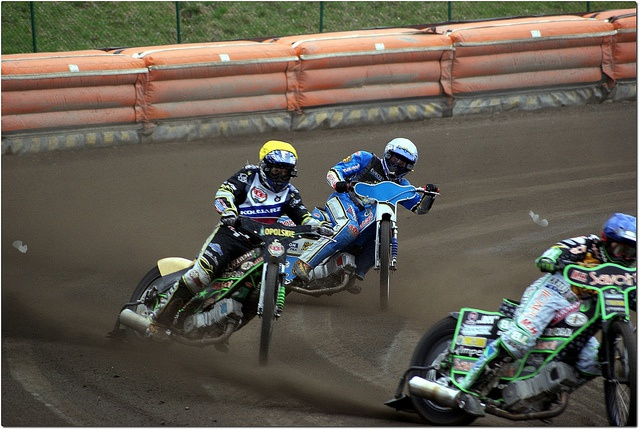non-vehicle: (381, 259, 637, 425), (119, 216, 333, 364), (296, 177, 437, 306)
